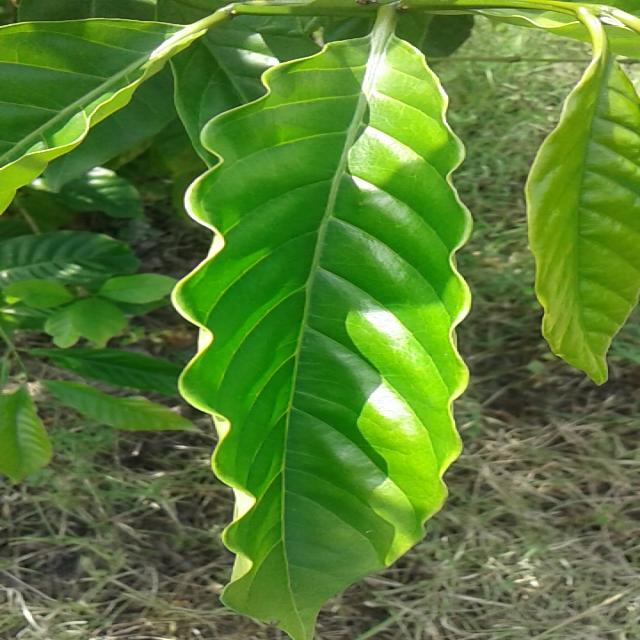Sanas: (168, 4, 473, 640)
